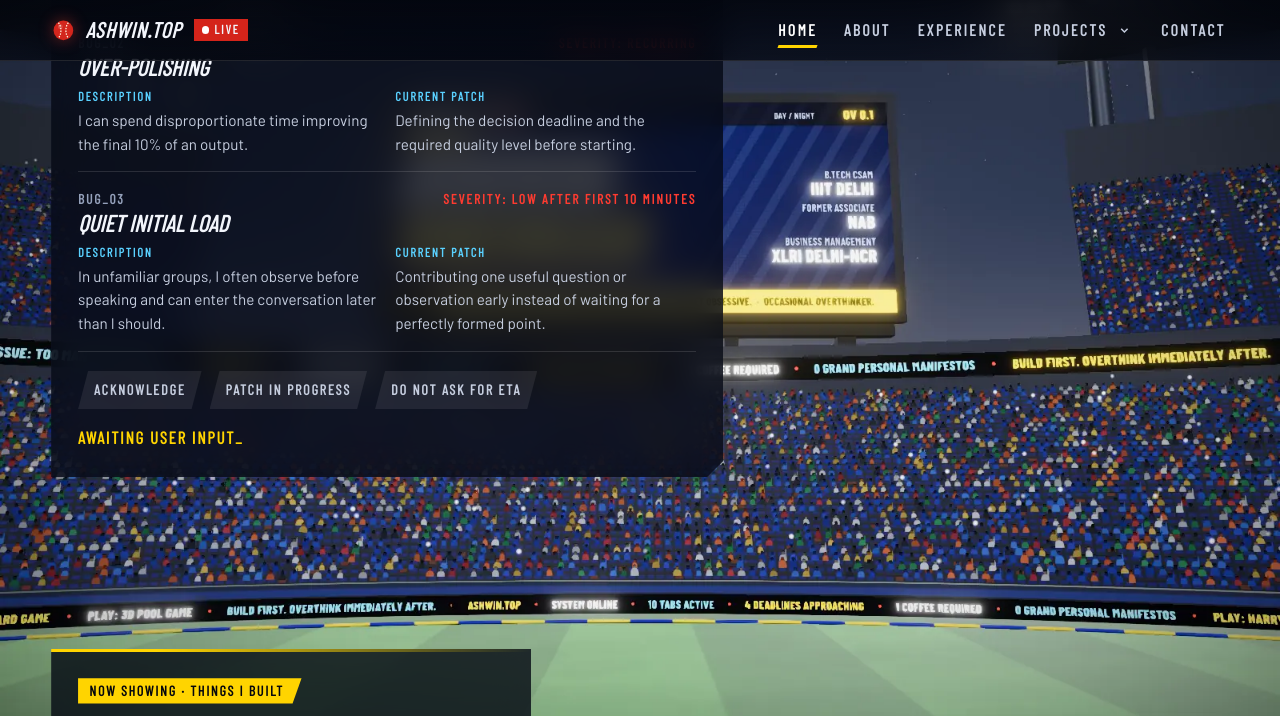
Test: ashwin.top › responds to the known-issue controls
(page scrolled)
Click the button "Do not ask for ETA".
click(456, 390)  # box [375, 371, 537, 409]
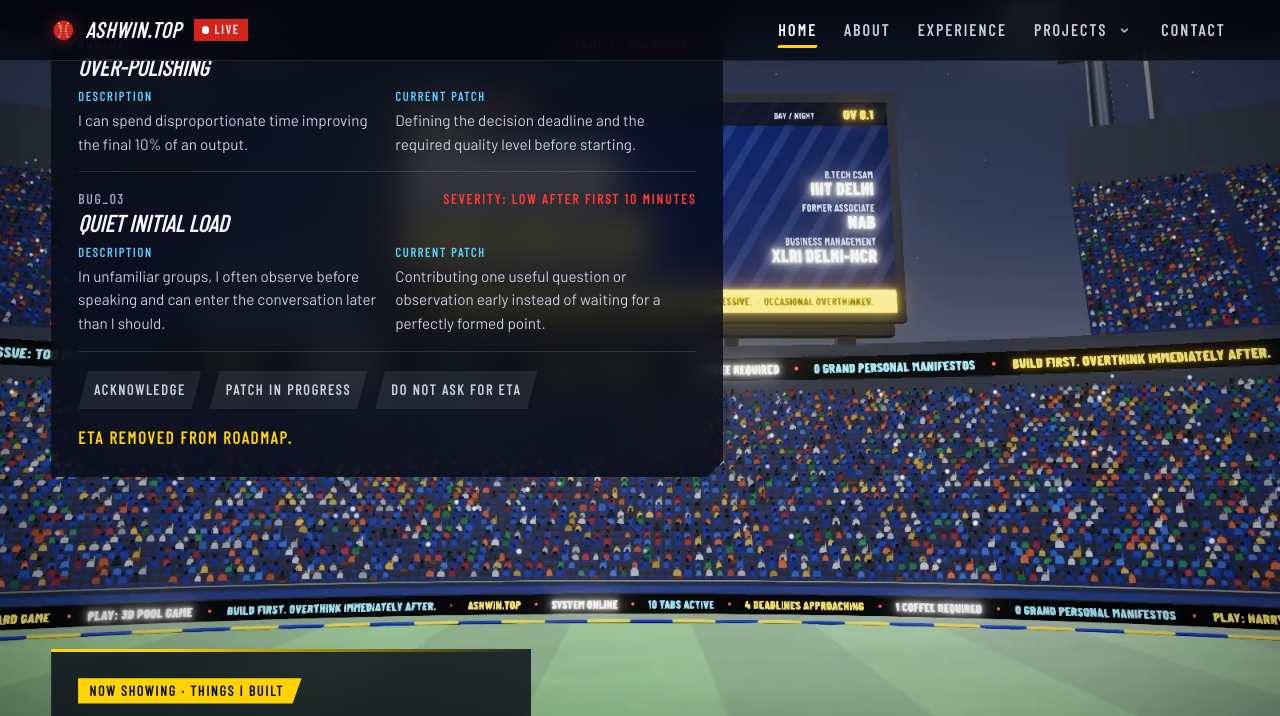
expect the text "ETA removed from roadmap." is shown: met, box [78, 427, 293, 447]
